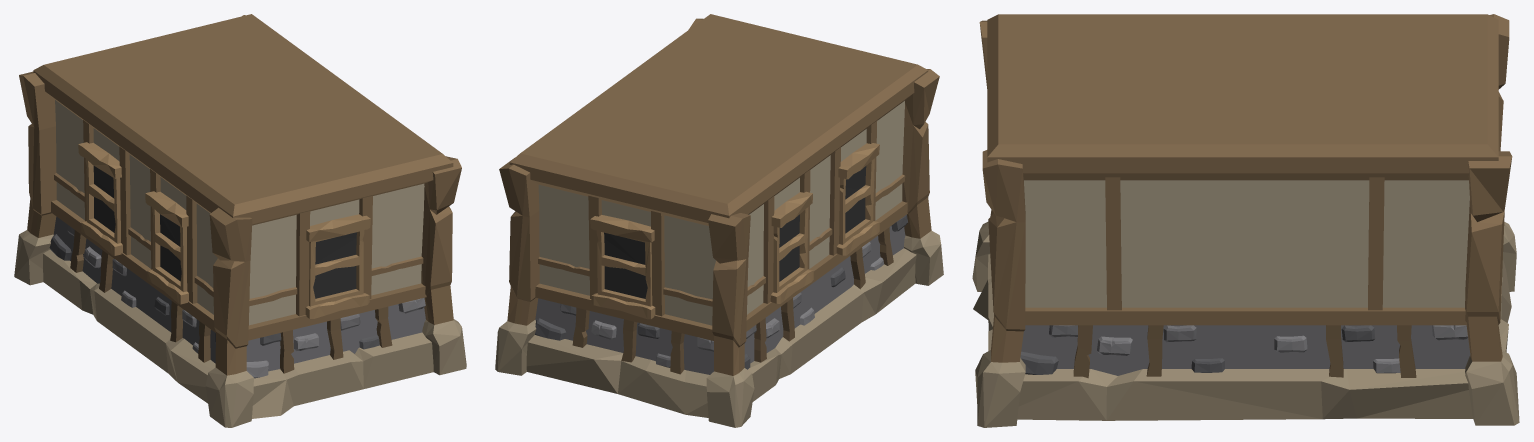
The model's file is SM_Bld_House_Foundation_02.gltf.
3 renders of one model, left to right at view 1: azimuth 30°, elevation 25°; view 2: azimuth 150°, elevation 25°; view 3: azimuth 270°, elevation 25°, orthographic. The views are drawn at different scales.
Parts seen in each view (by area): view 1: SM_Bld_House_Foundation_02; view 2: SM_Bld_House_Foundation_02; view 3: SM_Bld_House_Foundation_02.
Boxes of the visible parts, left/top/right/bottom form: SM_Bld_House_Foundation_02: left=14, top=14, right=466, bottom=427; SM_Bld_House_Foundation_02: left=495, top=14, right=943, bottom=427; SM_Bld_House_Foundation_02: left=972, top=14, right=1519, bottom=427.
Bounding box in the file's own units: 3.43 × 2.81 × 5.12.
1 material, 1 textured.
